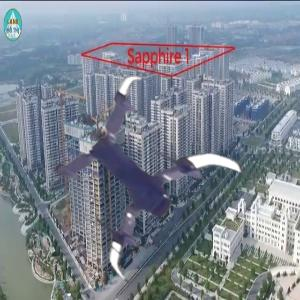drone: (52, 94, 241, 283)
